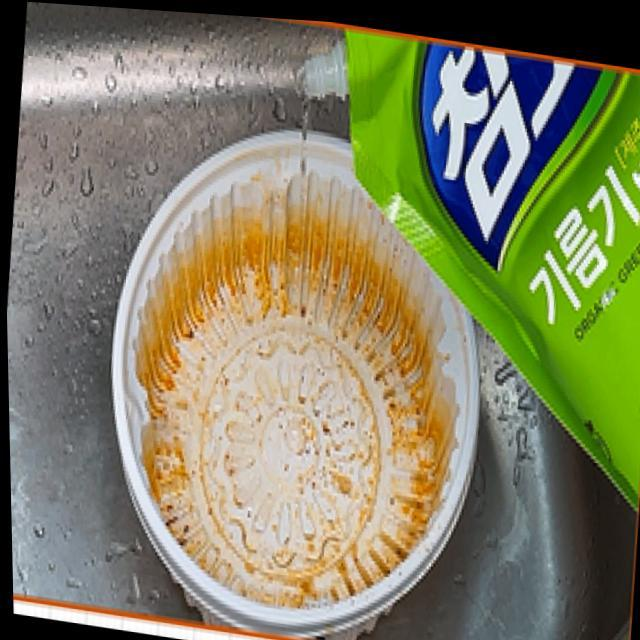container: (111, 121, 469, 640)
